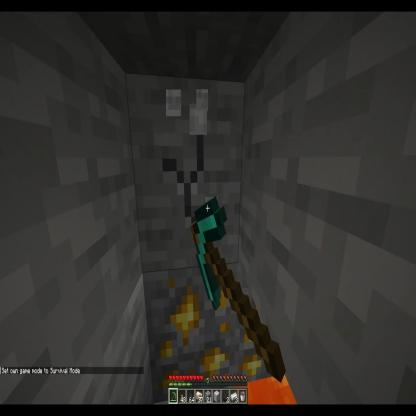gold ore: (141, 271, 239, 416), (238, 265, 286, 388)
